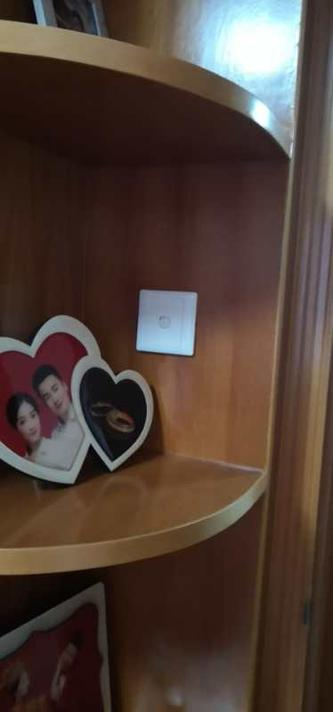switch: (148, 310, 188, 333)
